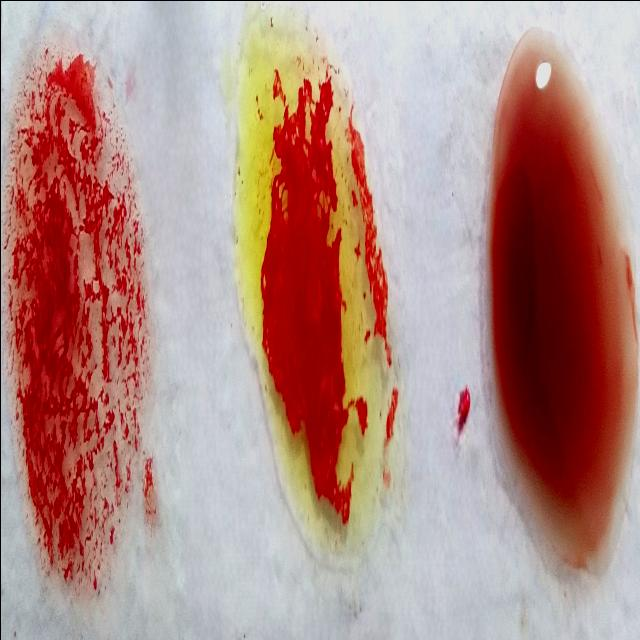B: (239, 33, 384, 580)
D: (13, 35, 147, 602)
